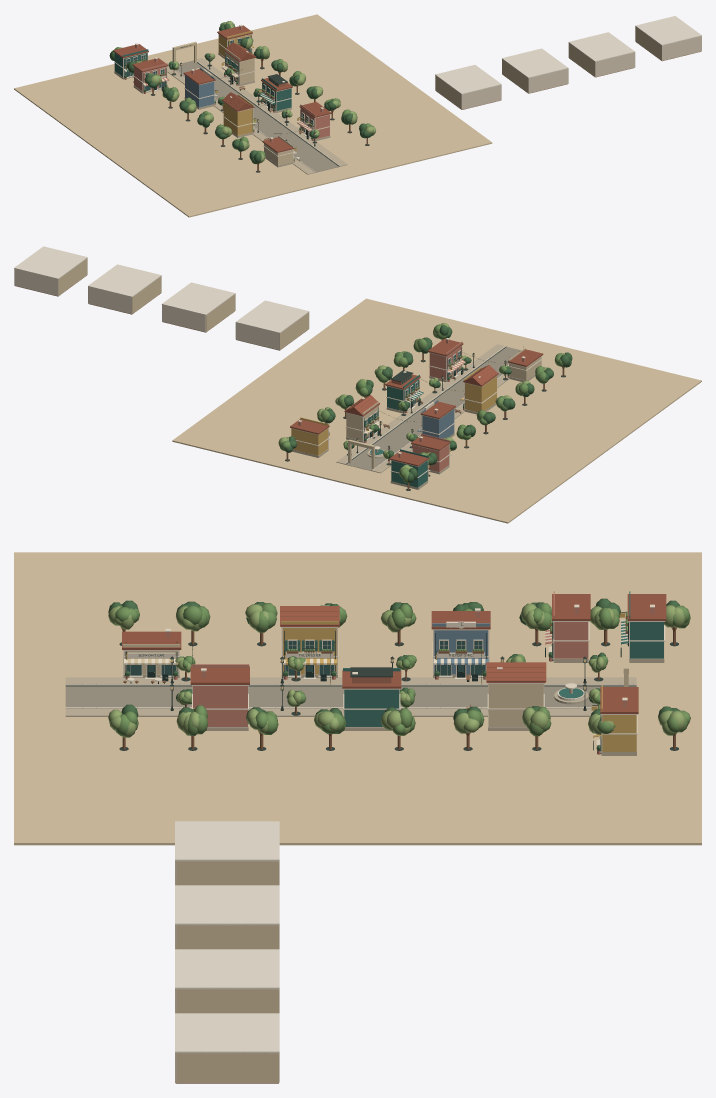
The model's file is neighborhood.glb.
3 views of the same model, one above another, from view 1: azimuth 30°, elevation 25°; view 2: azimuth 150°, elevation 25°; view 3: azimuth 270°, elevation 25° (orthographic). The views are drawn at different scales.
Parts seen in each view (by area): view 1: ground, avenue, contact_ceiling, studio_ceiling, about_ceiling, gallery_ceiling, sidewalk.001, about_body, studio_entrance_wall, contact_body, about_entrance_wall, contact_entrance_wall (+10 smaller); view 2: ground, avenue, studio_ceiling, about_ceiling, contact_ceiling, gallery_ceiling, sidewalk.001, about_body, contact_back_wall, about_back_wall, gallery_back_wall, studio_back_wall (+10 smaller); view 3: ground, avenue, gallery_ceiling, studio_ceiling, about_ceiling, contact_ceiling, contact_side_wall.001, studio_side_wall.001, about_side_wall.001, gallery_side_wall.001, sidewalk, sidewalk.001 (+16 smaller).
Boxes of the visible parts, box(x1,y1,x2,y2) form: ground: box(14, 14, 492, 217); avenue: box(177, 60, 338, 172); contact_ceiling: box(635, 16, 701, 45); studio_ceiling: box(568, 32, 634, 61); about_ceiling: box(502, 48, 568, 78); gallery_ceiling: box(435, 65, 501, 94); sidewalk.001: box(197, 58, 347, 166); about_body: box(223, 102, 252, 135); studio_entrance_wall: box(594, 52, 635, 77); contact_body: box(185, 75, 214, 107); about_entrance_wall: box(528, 68, 568, 93); contact_entrance_wall: box(661, 36, 701, 60); ground: box(172, 298, 701, 523); avenue: box(345, 347, 520, 470); studio_ceiling: box(88, 264, 161, 297); about_ceiling: box(161, 282, 235, 315); contact_ceiling: box(14, 246, 87, 279); gallery_ceiling: box(235, 300, 309, 333); sidewalk.001: box(336, 344, 504, 464); about_body: box(465, 376, 496, 412); contact_back_wall: box(14, 269, 58, 295); about_back_wall: box(162, 305, 205, 332); gallery_back_wall: box(236, 323, 279, 350); studio_back_wall: box(88, 287, 131, 314); ground: box(14, 552, 701, 845); avenue: box(65, 686, 636, 707); gallery_ceiling: box(175, 821, 279, 861); studio_ceiling: box(175, 949, 279, 989); about_ceiling: box(175, 885, 279, 925); contact_ceiling: box(175, 1013, 279, 1053); contact_side_wall.001: box(175, 1053, 278, 1082); studio_side_wall.001: box(175, 989, 278, 1013); about_side_wall.001: box(175, 925, 278, 949); gallery_side_wall.001: box(175, 861, 278, 885); sidewalk: box(65, 677, 636, 683); sidewalk.001: box(65, 708, 593, 716).
Size of the model in its own units: 183 by 10.84 by 100.
